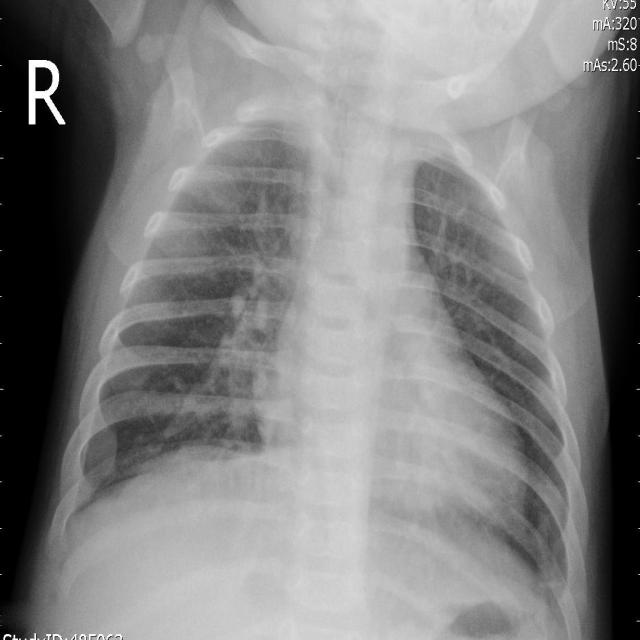high-pneumonia: (246, 73, 323, 153)
low-pneumonia: (178, 235, 291, 446)
